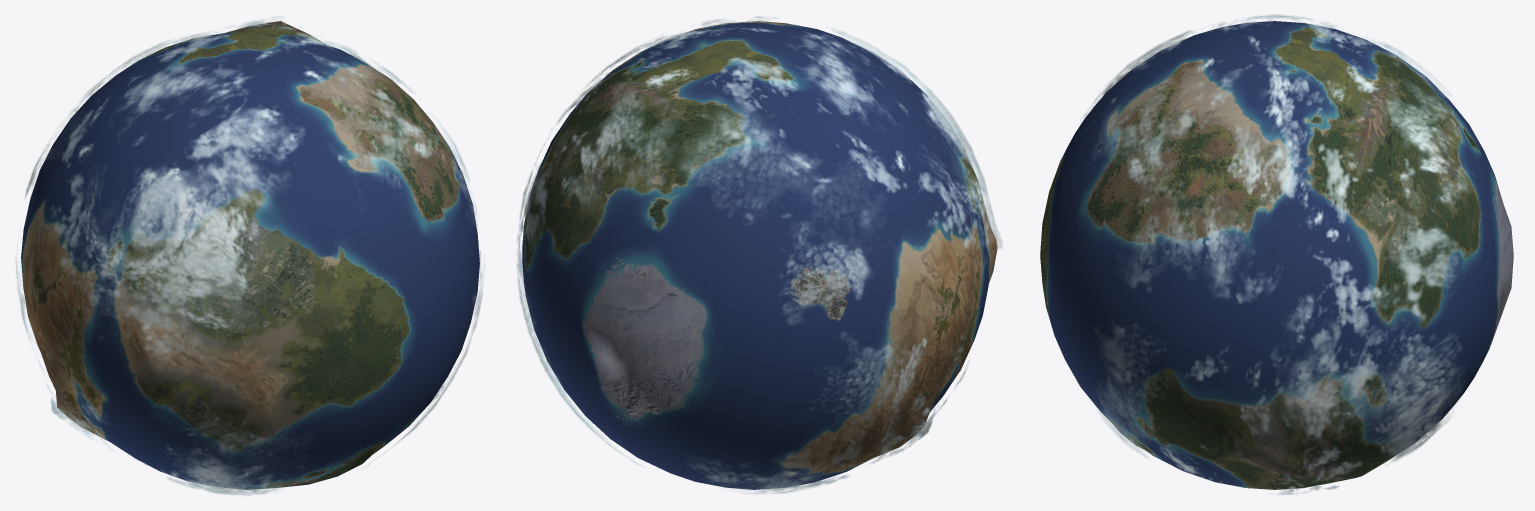
File: UnleashedEarth.glb
The picture shows the model from 3 angles, left to right: view 1: azimuth 30°, elevation 25°; view 2: azimuth 150°, elevation 25°; view 3: azimuth 270°, elevation 25°; orthographic projection. The views are drawn at different scales.
Parts seen in each view (by area): view 1: wmap_union06; view 2: wmap_union06; view 3: wmap_union06.
Boxes of the visible parts, x1=… form: wmap_union06: x1=15, y1=16, x2=485, y2=495; wmap_union06: x1=516, y1=15, x2=1002, y2=494; wmap_union06: x1=1040, y1=14, x2=1513, y2=494.
Size of the model in its own units: 10.46 by 10.35 by 10.45.
Materials: 7 (6 with a texture image).
